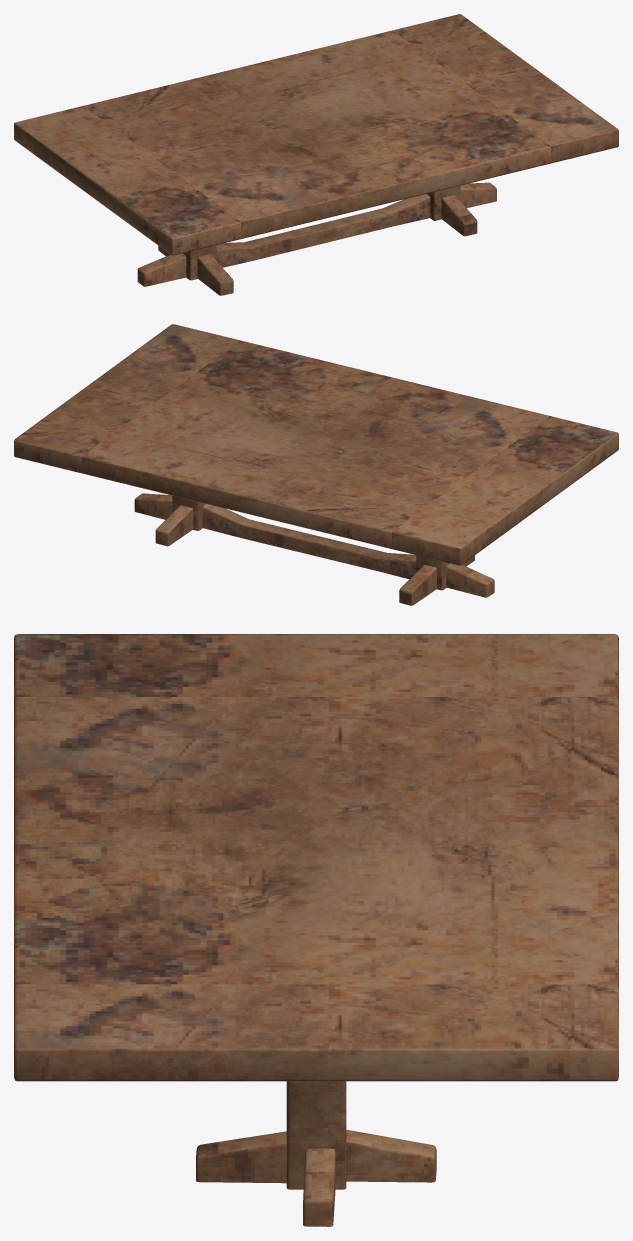
File: _Table_2.FBX
3 views of the same model, one above another, from view 1: azimuth 30°, elevation 25°; view 2: azimuth 150°, elevation 25°; view 3: azimuth 270°, elevation 25° (orthographic). The views are drawn at different scales.
Parts seen in each view (by area): view 1: _Table_2; view 2: _Table_2; view 3: _Table_2.
Part boxes in pixels (x1,y1,x2,y2): _Table_2: [14, 14, 618, 295]; _Table_2: [14, 324, 618, 605]; _Table_2: [14, 634, 618, 1226].
Bounding box in the file's own units: 650 × 162 × 400.
Materials: 1 (1 with a texture image).
